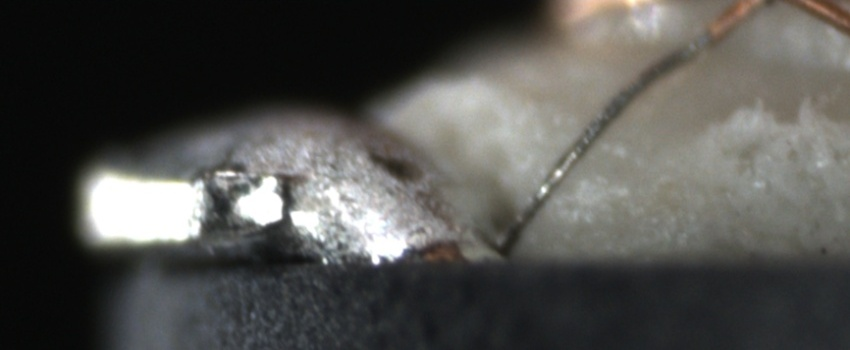TS: (495, 31, 711, 249)
TTCW: (500, 1, 741, 248)
